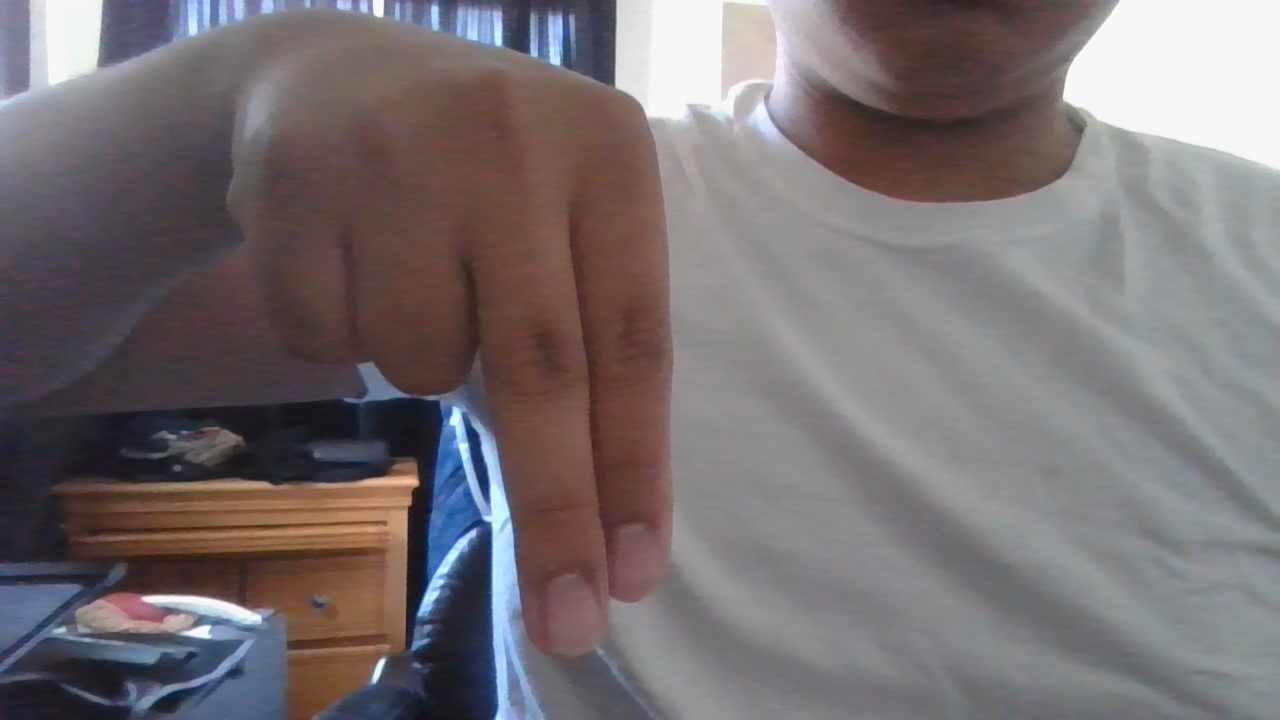n: (164, 1, 728, 668)
